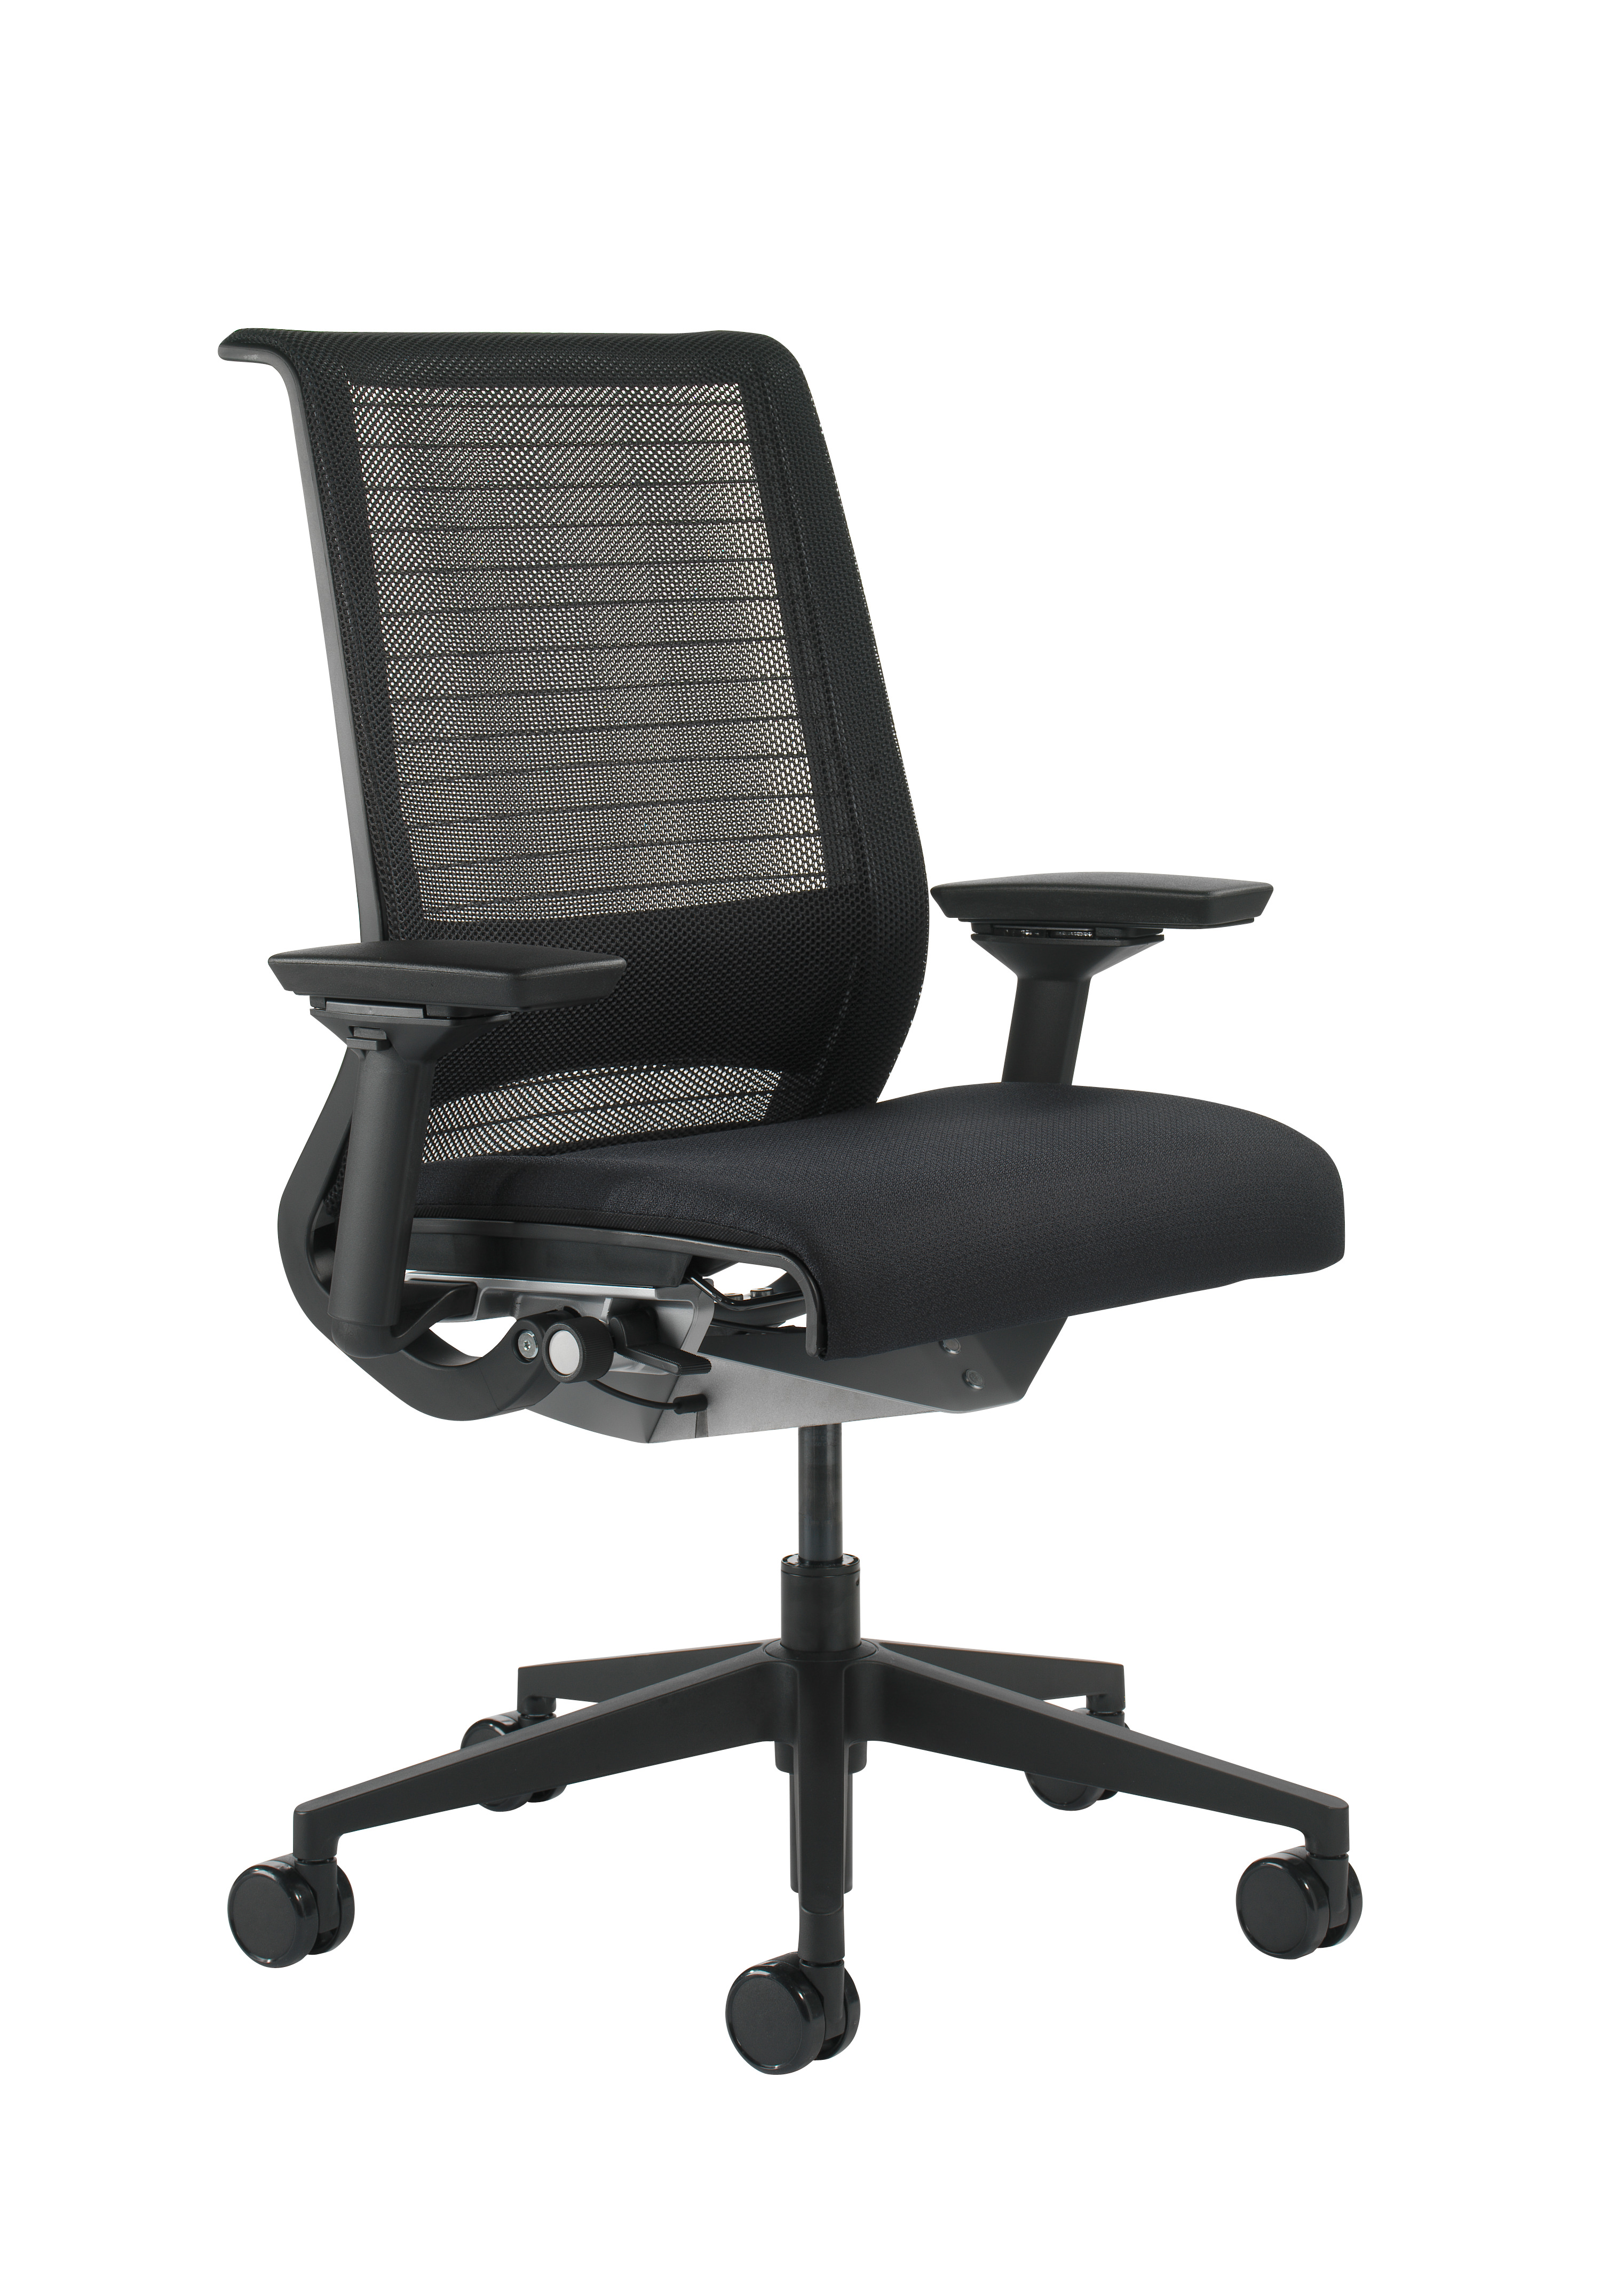chairs: (195, 304, 1378, 2091)
